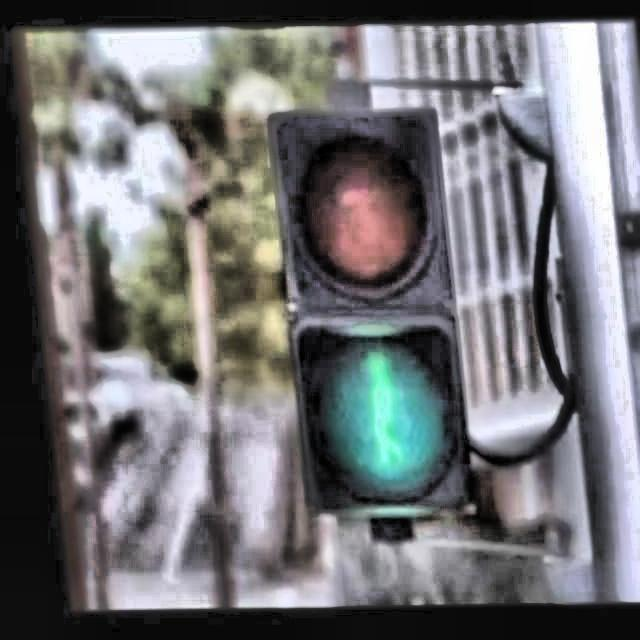semaforo pedestre: (195, 79, 551, 581)
